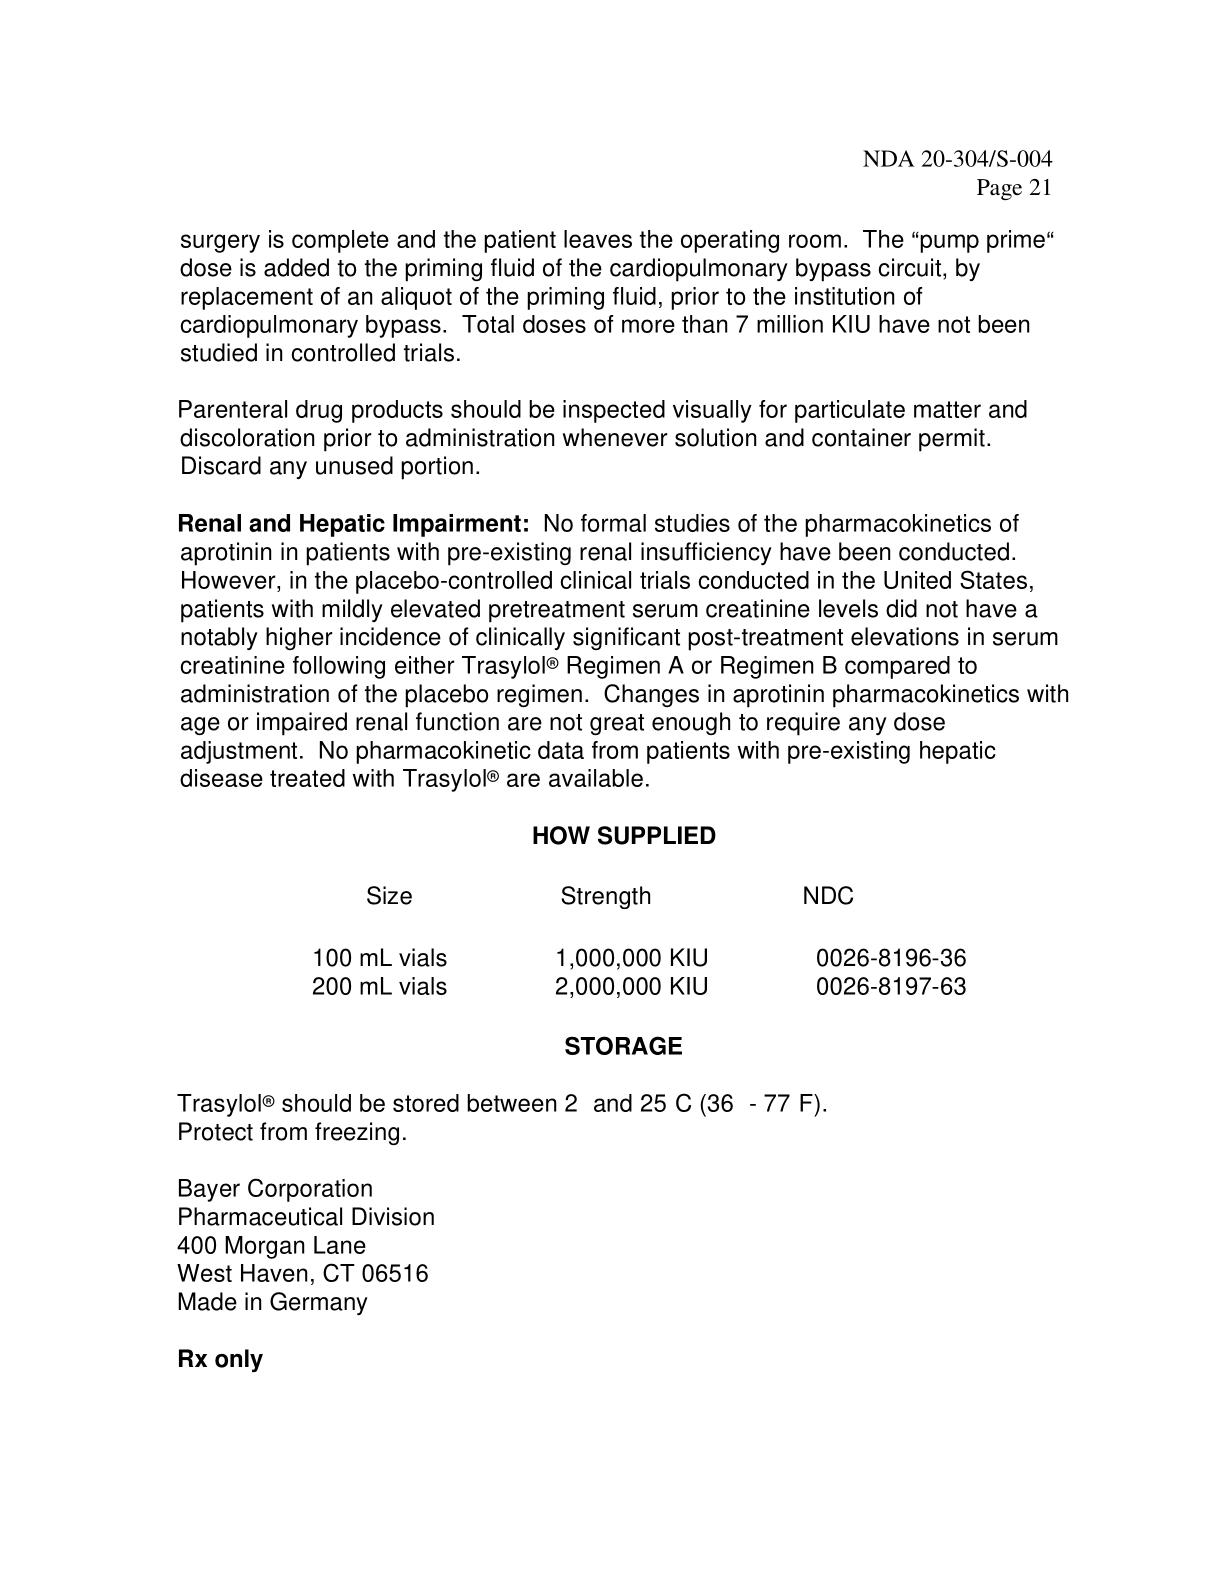nolines: (309, 882, 969, 1000)
